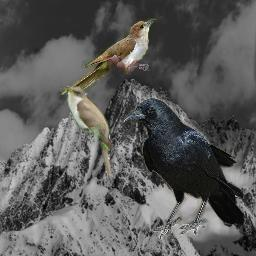Crow: (121, 97, 243, 239)
Cuckoo: (60, 18, 157, 95), (60, 83, 117, 188)
